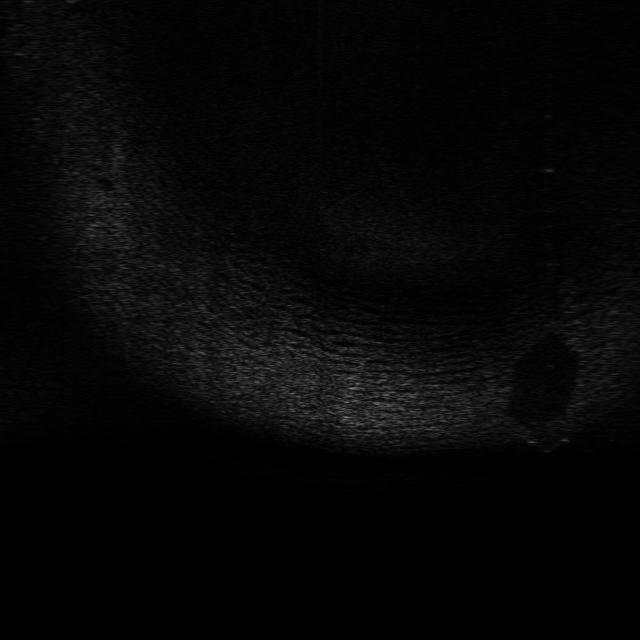cube: (507, 409, 582, 454)
